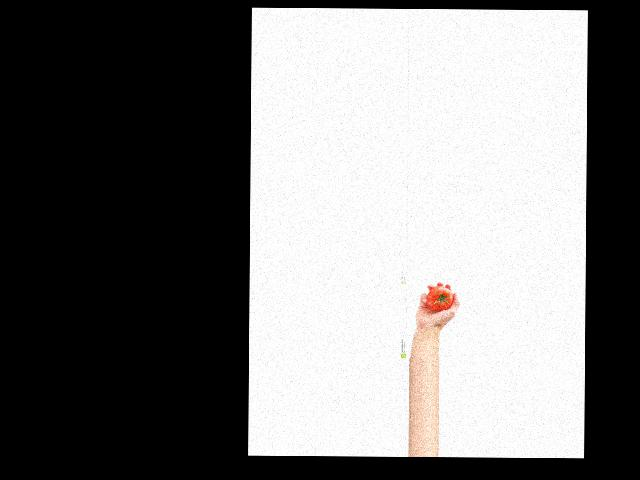tomato: (426, 285, 452, 311)
